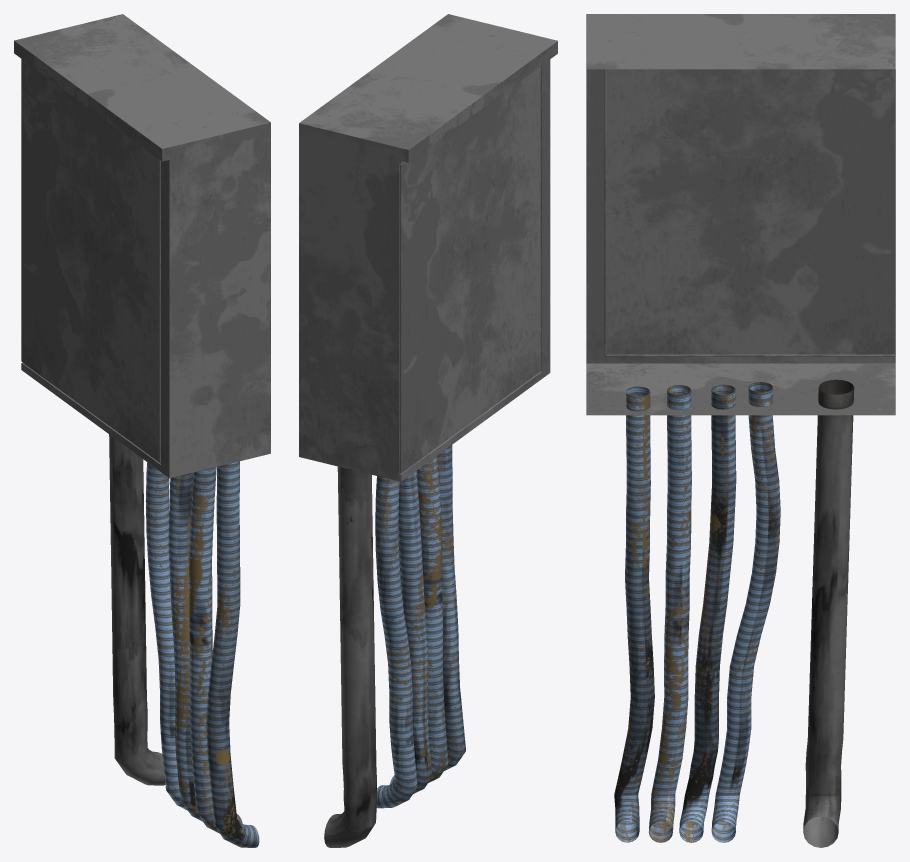
The model's file is SM_ElectricalBox03.fbx.
3 renders of one model, left to right at view 1: azimuth 30°, elevation 25°; view 2: azimuth 150°, elevation 25°; view 3: azimuth 270°, elevation 25°, orthographic. The views are drawn at different scales.
Parts seen in each view (by area): view 1: SM_ElectricalBox03_LOD0; view 2: SM_ElectricalBox03_LOD0; view 3: SM_ElectricalBox03_LOD0.
Part boxes in pixels (bbox=[...]): SM_ElectricalBox03_LOD0: bbox=[14, 14, 270, 847]; SM_ElectricalBox03_LOD0: bbox=[299, 14, 557, 847]; SM_ElectricalBox03_LOD0: bbox=[586, 14, 895, 847].
Bounding box in the file's own units: 17.43 × 40 × 111.
1 material, 1 textured.
